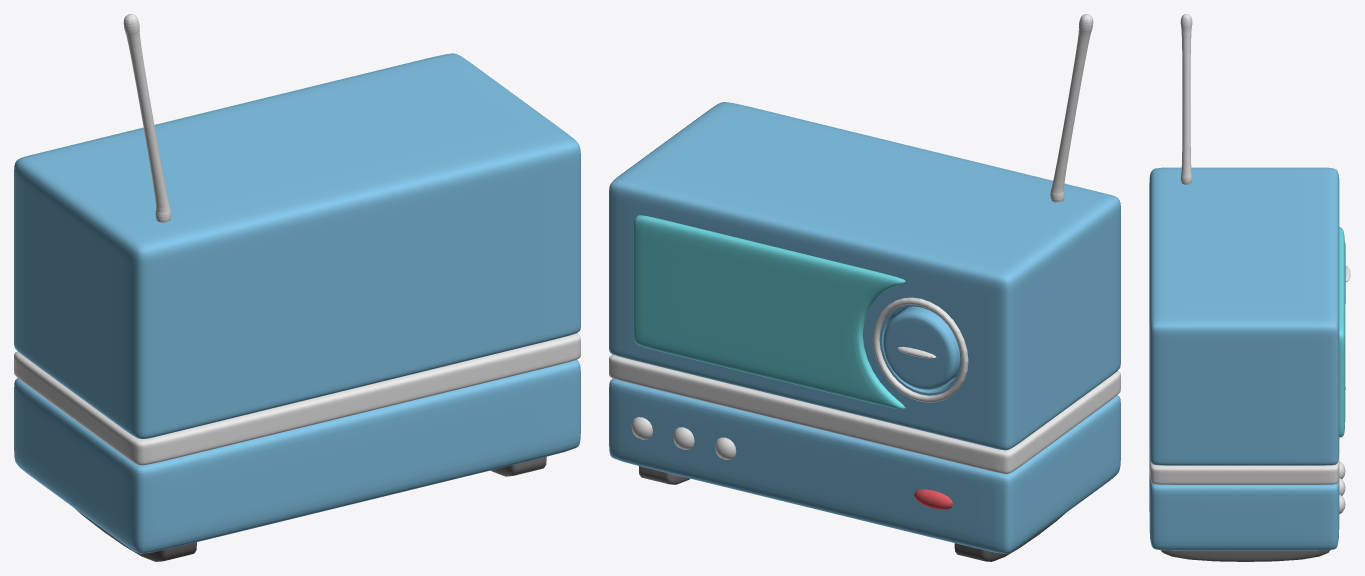
File: radio_Whole.fbx
The picture shows the model from 3 angles, left to right: view 1: azimuth 30°, elevation 25°; view 2: azimuth 150°, elevation 25°; view 3: azimuth 270°, elevation 25°; orthographic projection. The views are drawn at different scales.
Visible parts, largest first — view 1: Cube; view 2: Cube; view 3: Cube.
Part boxes in pixels (left/top/right/bottom): Cube: left=14, top=14, right=580, bottom=561; Cube: left=609, top=14, right=1120, bottom=561; Cube: left=1149, top=14, right=1350, bottom=561.
Bounding box in the file's own units: 0.16 × 0.1883 × 0.0847.
